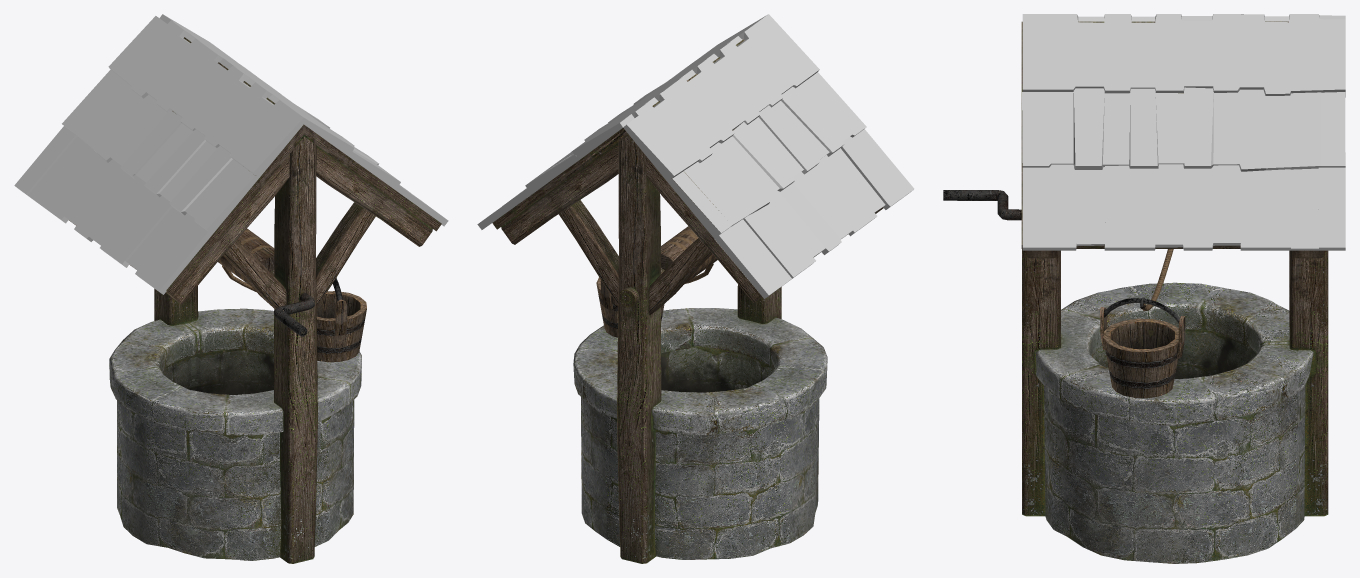
File: CA_Well.fbx
3 views of the same model, side by side, from view 1: azimuth 30°, elevation 25°; view 2: azimuth 150°, elevation 25°; view 3: azimuth 270°, elevation 25° (orthographic). The views are drawn at different scales.
Parts seen in each view (by area): view 1: CA_Well, CA_Well_Bucket, CA_Well_Lever; view 2: CA_Well, CA_Well_Lever, CA_Well_Bucket; view 3: CA_Well, CA_Well_Bucket, CA_Well_Lever.
Part boxes in pixels (x1,y1,x2,y2): CA_Well: (14,14,448,563); CA_Well_Bucket: (316,277,366,362); CA_Well_Lever: (218,228,314,336); CA_Well: (477,14,914,563); CA_Well_Lever: (619,226,717,307); CA_Well_Bucket: (596,277,664,337); CA_Well: (1021,14,1345,563); CA_Well_Bucket: (1100,297,1185,398); CA_Well_Lever: (943,190,1021,220).
Bounding box in the file's own units: 203 × 297 × 218.
